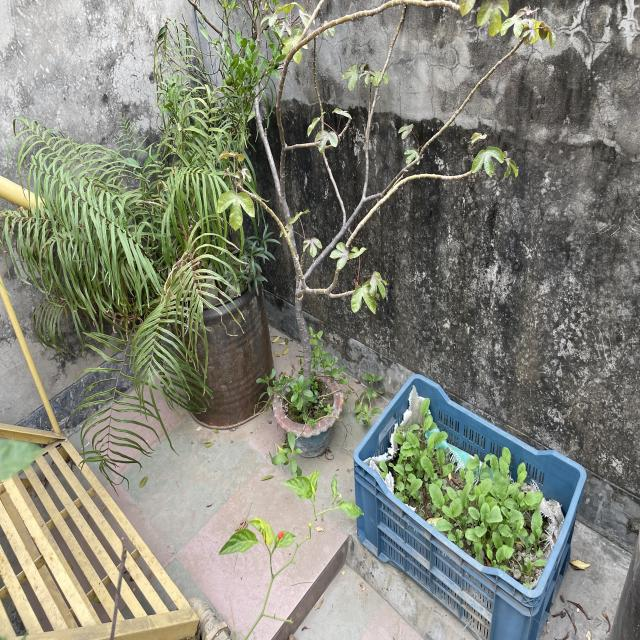Breeding Place: (354, 372, 583, 640), (153, 250, 275, 426), (269, 366, 345, 456)
